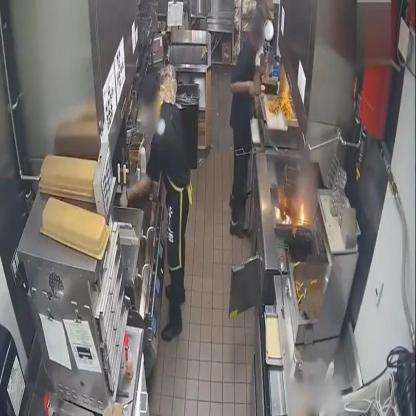fire: (298, 199, 307, 224), (282, 211, 292, 225)
